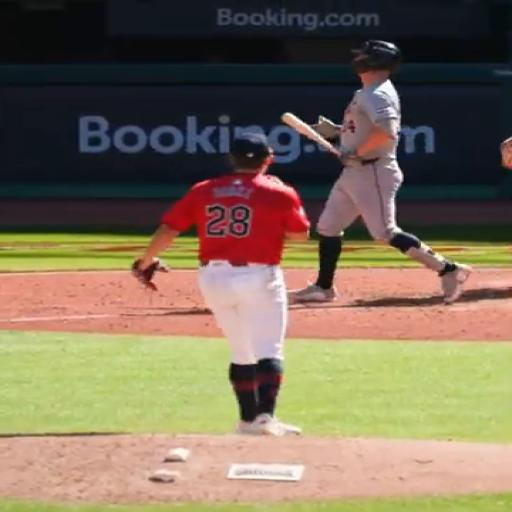bat: (282, 112, 339, 155)
